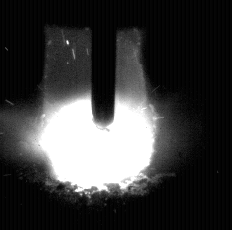arame: (93, 0, 116, 132)
poca: (38, 0, 156, 230)
